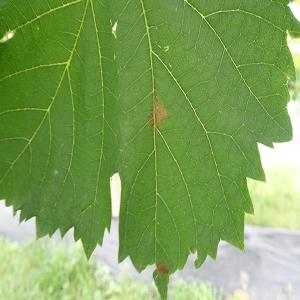Folha: (0, 0, 300, 300)
Fungo: (147, 92, 170, 132), (155, 260, 169, 276), (147, 112, 154, 128)
